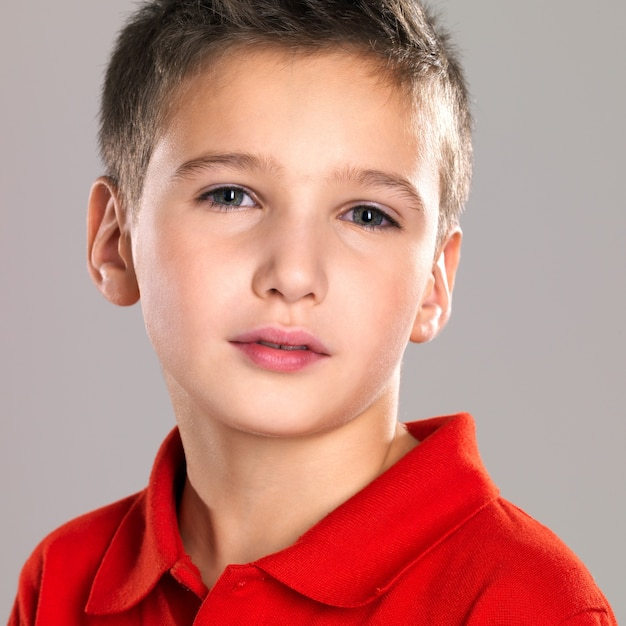teen: (94, 16, 463, 433)
